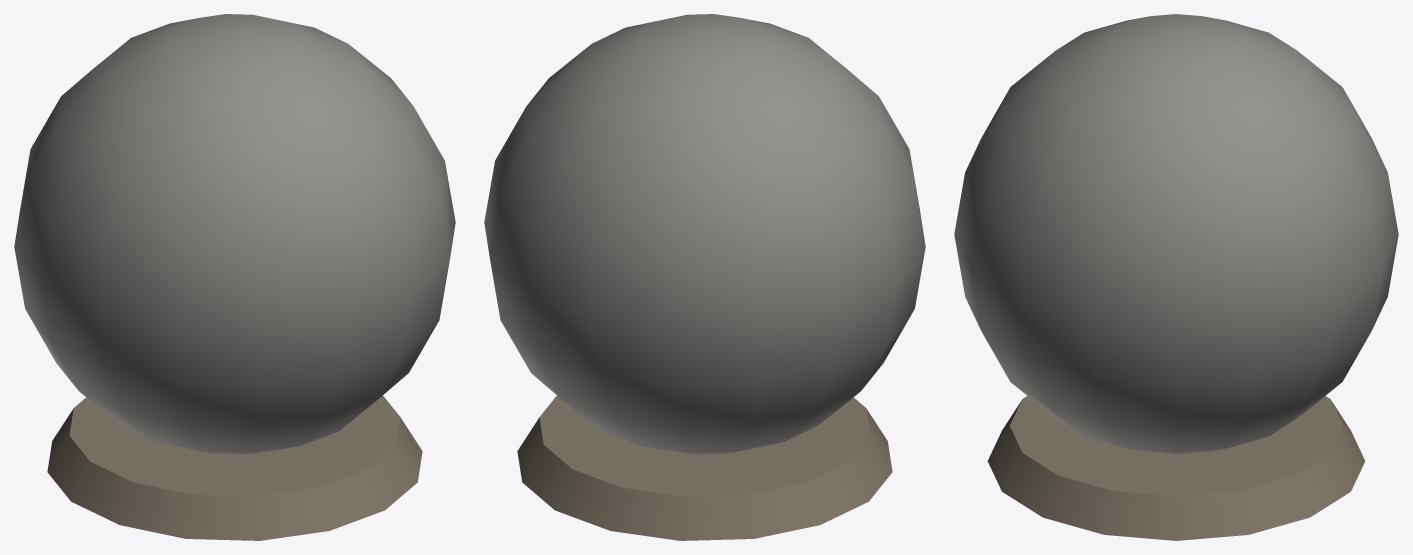
The model's file is SC_Util_Bollard_Ball.gltf.
The picture shows the model from 3 angles, left to right: view 1: azimuth 30°, elevation 25°; view 2: azimuth 150°, elevation 25°; view 3: azimuth 270°, elevation 25°; orthographic projection.
Visible parts, largest first — view 1: SC_Util_Bollard_Ball; view 2: SC_Util_Bollard_Ball; view 3: SC_Util_Bollard_Ball.
Part boxes in pixels (box(x1,y1,x2,y2)): SC_Util_Bollard_Ball: box(14, 14, 455, 540); SC_Util_Bollard_Ball: box(484, 14, 925, 540); SC_Util_Bollard_Ball: box(954, 14, 1398, 540).
Size of the model in its own units: 0.4 by 0.425 by 0.4.
Materials: 1 (1 with a texture image).
